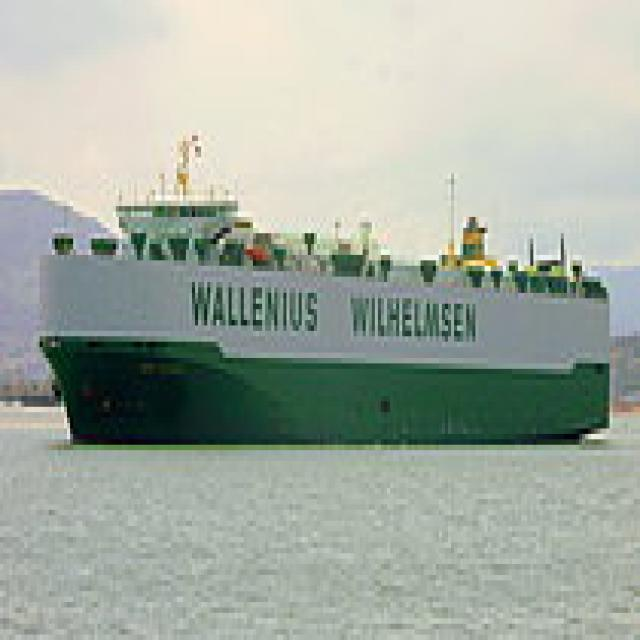Carrier: (31, 184, 610, 445)
